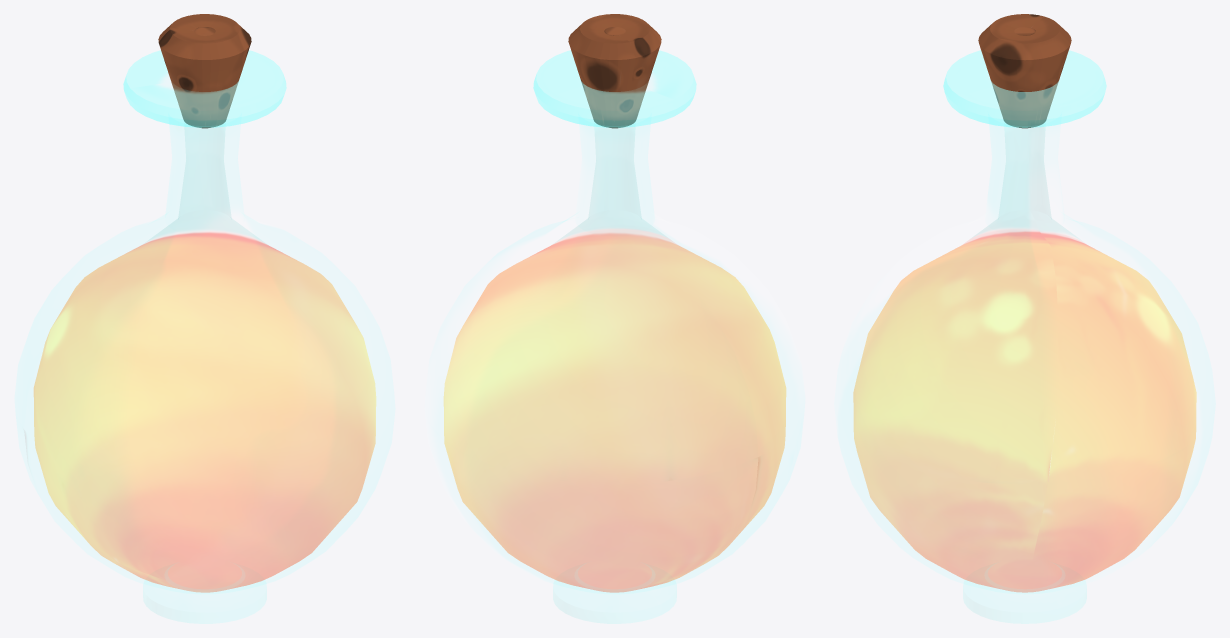
Rendered from potion.glb.
3 renders of one model, left to right at view 1: azimuth 30°, elevation 25°; view 2: azimuth 150°, elevation 25°; view 3: azimuth 270°, elevation 25°, orthographic.
Parts seen in each view (by area): view 1: Potion; view 2: Potion; view 3: Potion.
Part boxes in pixels (left/top/right/bottom): Potion: left=33, top=14, right=376, bottom=594; Potion: left=443, top=14, right=786, bottom=594; Potion: left=853, top=14, right=1196, bottom=594.
Bounding box in the file's own units: 0.6098 × 1.01 × 0.6098.
2 materials, 2 textured.
